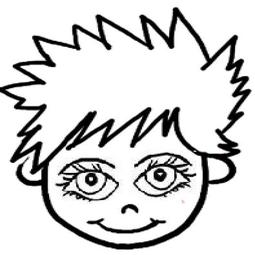ear: (202, 150, 242, 189), (14, 151, 45, 196)
eye: (54, 162, 121, 202), (131, 155, 196, 196)
eyebrow: (130, 150, 198, 169), (53, 155, 115, 173)
mouth: (83, 215, 168, 237)
nose: (117, 203, 153, 216)
